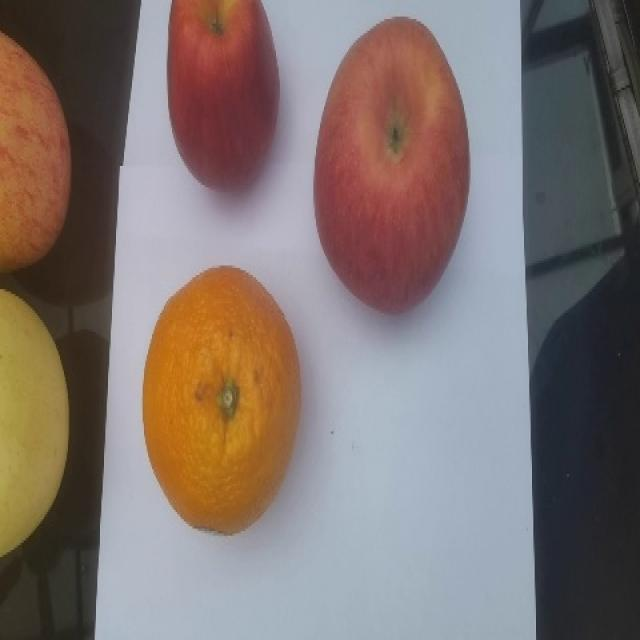Apple: (312, 15, 470, 314), (166, 0, 280, 191), (0, 28, 72, 273)
Orange: (141, 264, 301, 535)
